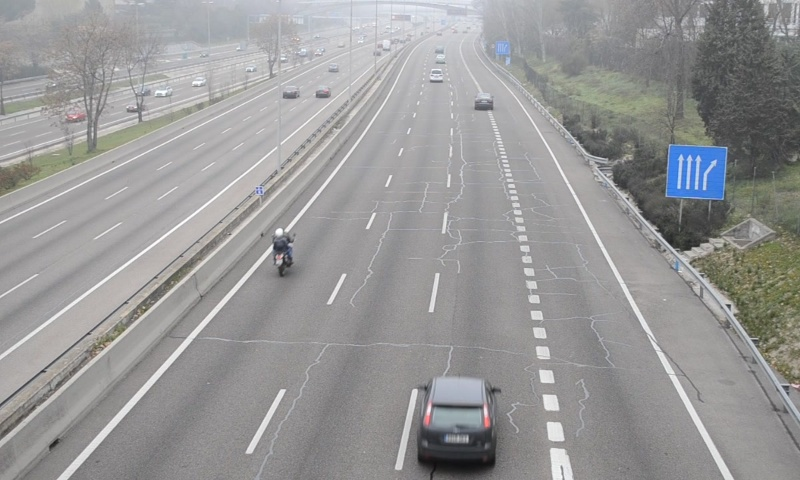car: (416, 374, 500, 468), (474, 92, 492, 110), (428, 68, 444, 83)
motorcycle: (271, 226, 294, 276)
